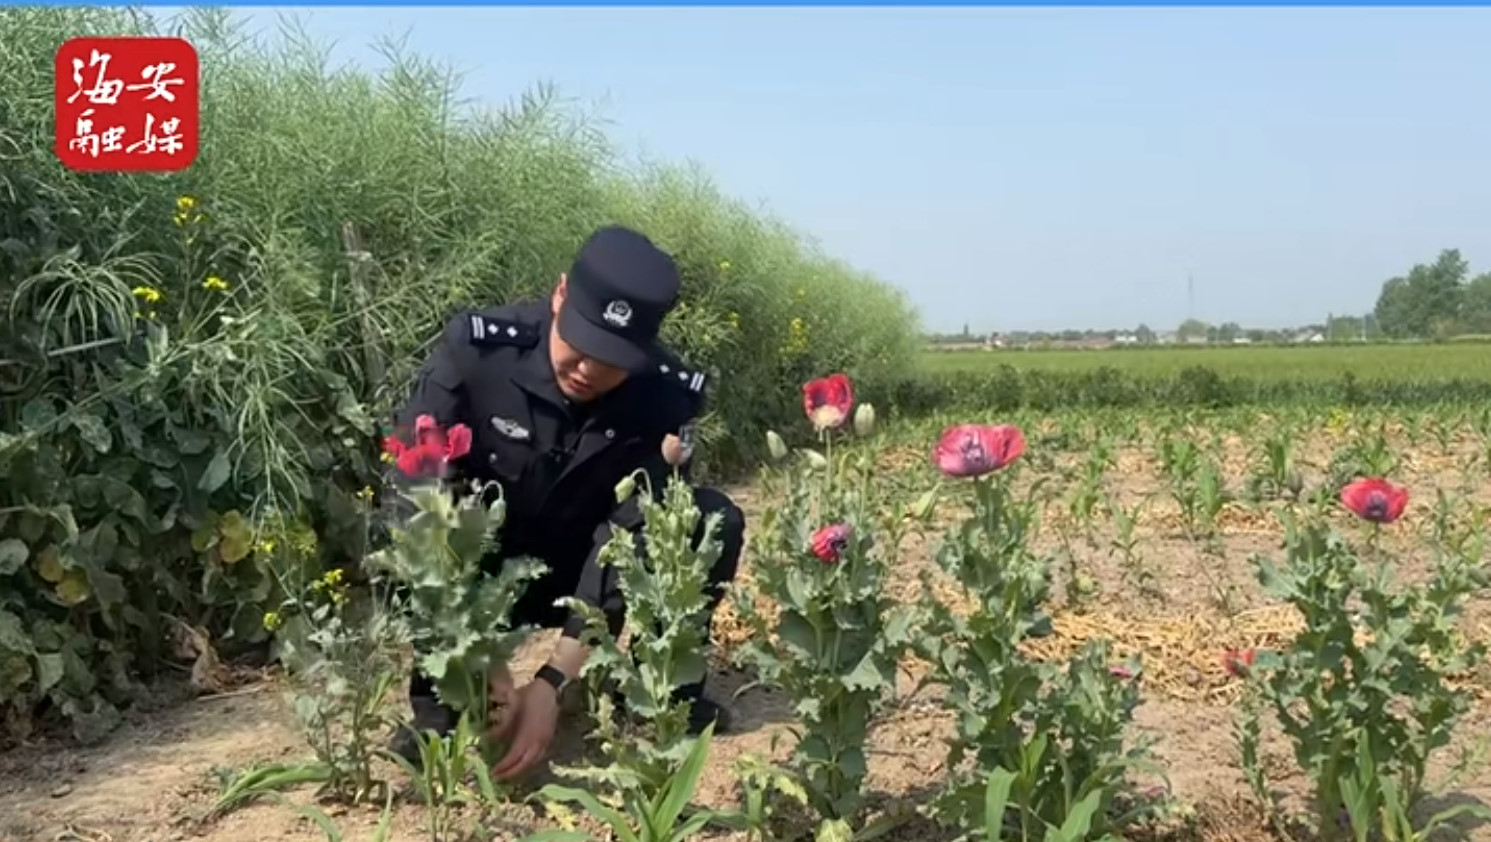Poppy: (899, 407, 1160, 839), (1205, 454, 1489, 842), (745, 370, 915, 820), (361, 399, 539, 782), (572, 410, 732, 774)
